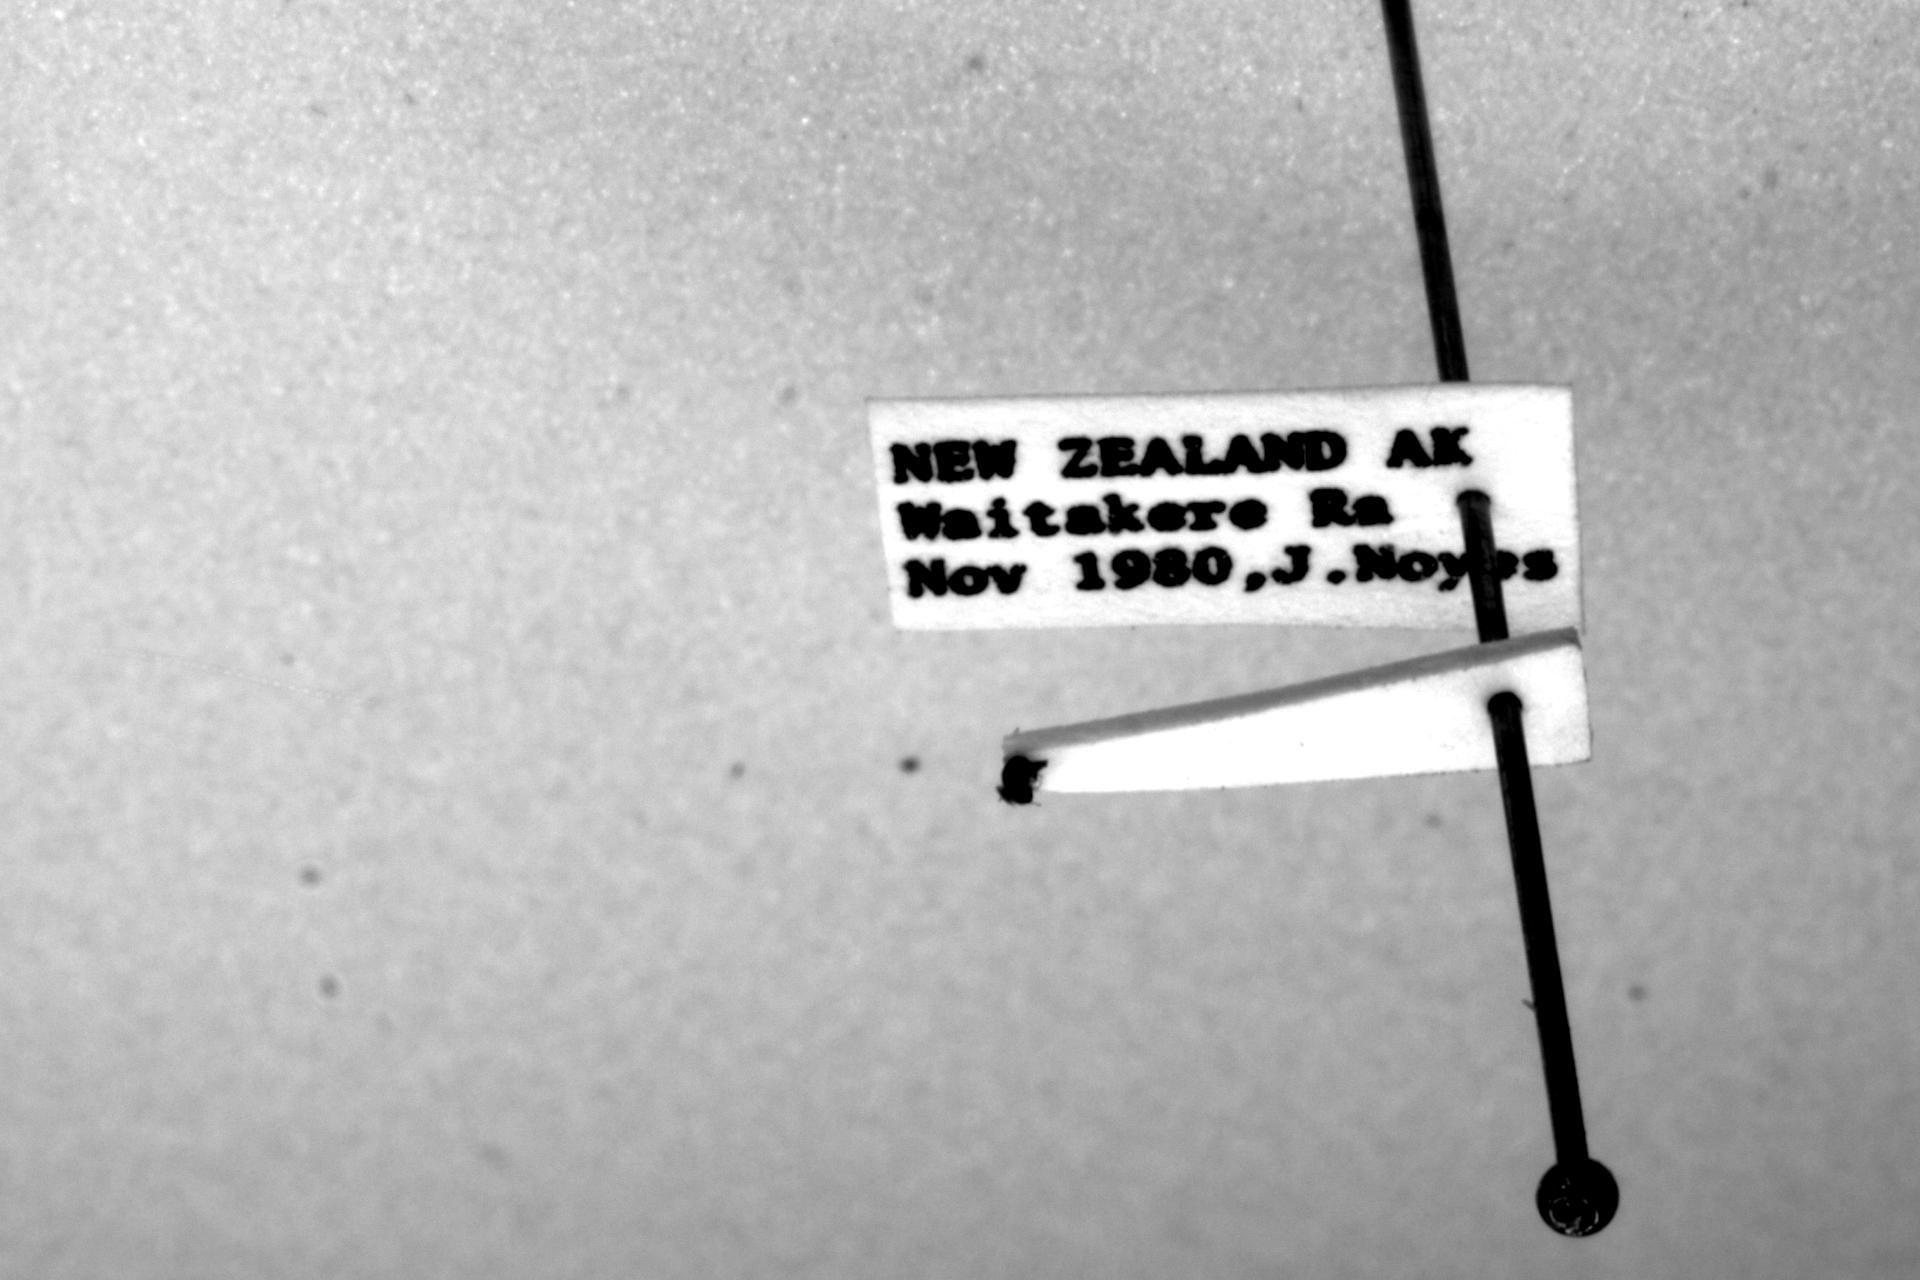typed_label: (870, 383, 1583, 634)
